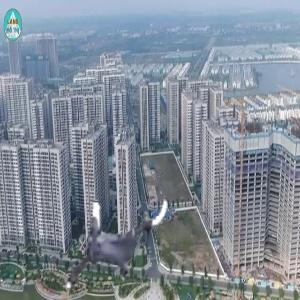drone: (58, 177, 179, 298)
